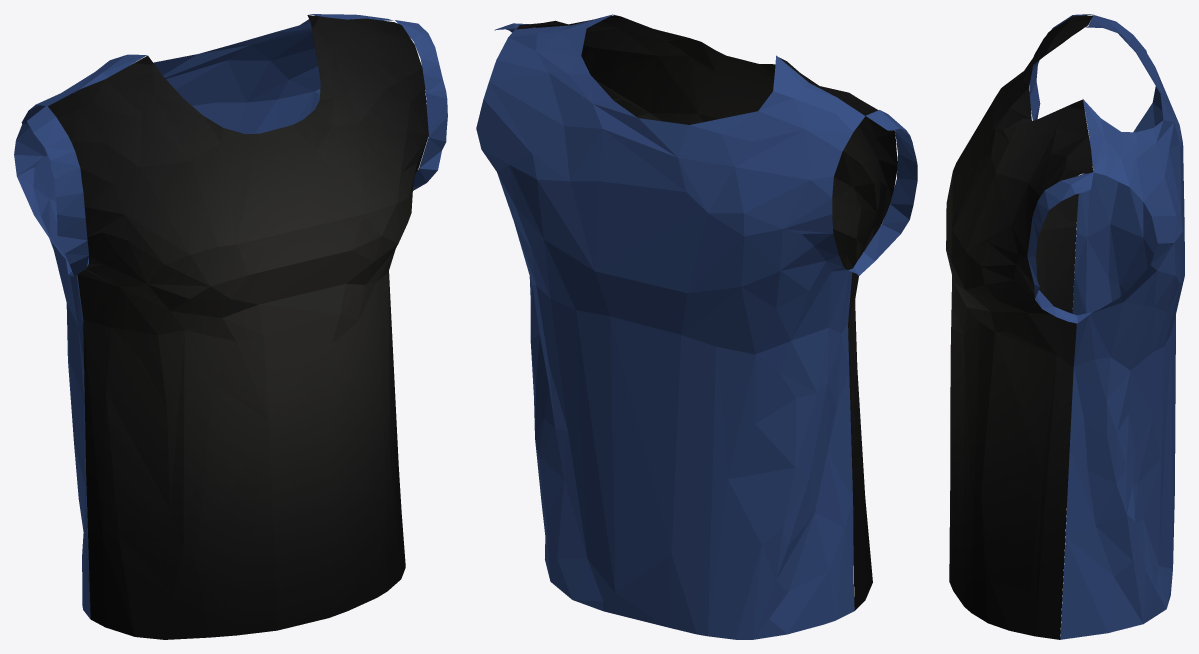
The picture shows the model from 3 angles, left to right: view 1: azimuth 30°, elevation 25°; view 2: azimuth 150°, elevation 25°; view 3: azimuth 270°, elevation 25°; orthographic projection. The views are drawn at different scales.
Visible parts, largest first — view 1: T_shirt.005; view 2: T_shirt.005; view 3: T_shirt.005.
Part boxes in pixels (left/top/right/bottom): T_shirt.005: left=14, top=14, right=447, bottom=639; T_shirt.005: left=476, top=14, right=917, bottom=639; T_shirt.005: left=946, top=14, right=1184, bottom=639.
Bounding box in the file's own units: 0.2935 × 0.3892 × 0.1639.
Materials: 2 (1 with a texture image).
